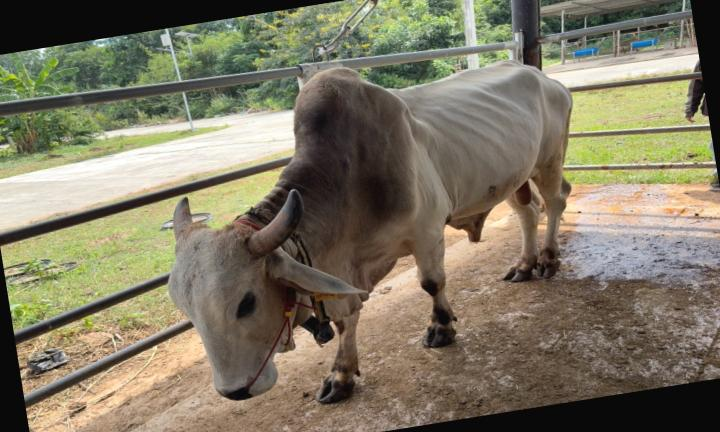Brahman: (168, 59, 573, 402)
